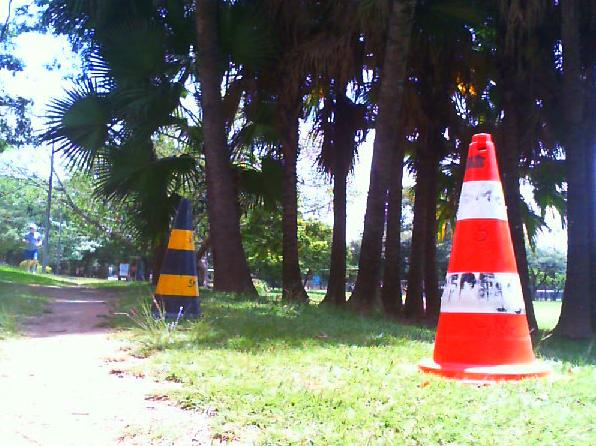0 cone: (417, 133, 553, 388), (148, 199, 204, 321)
